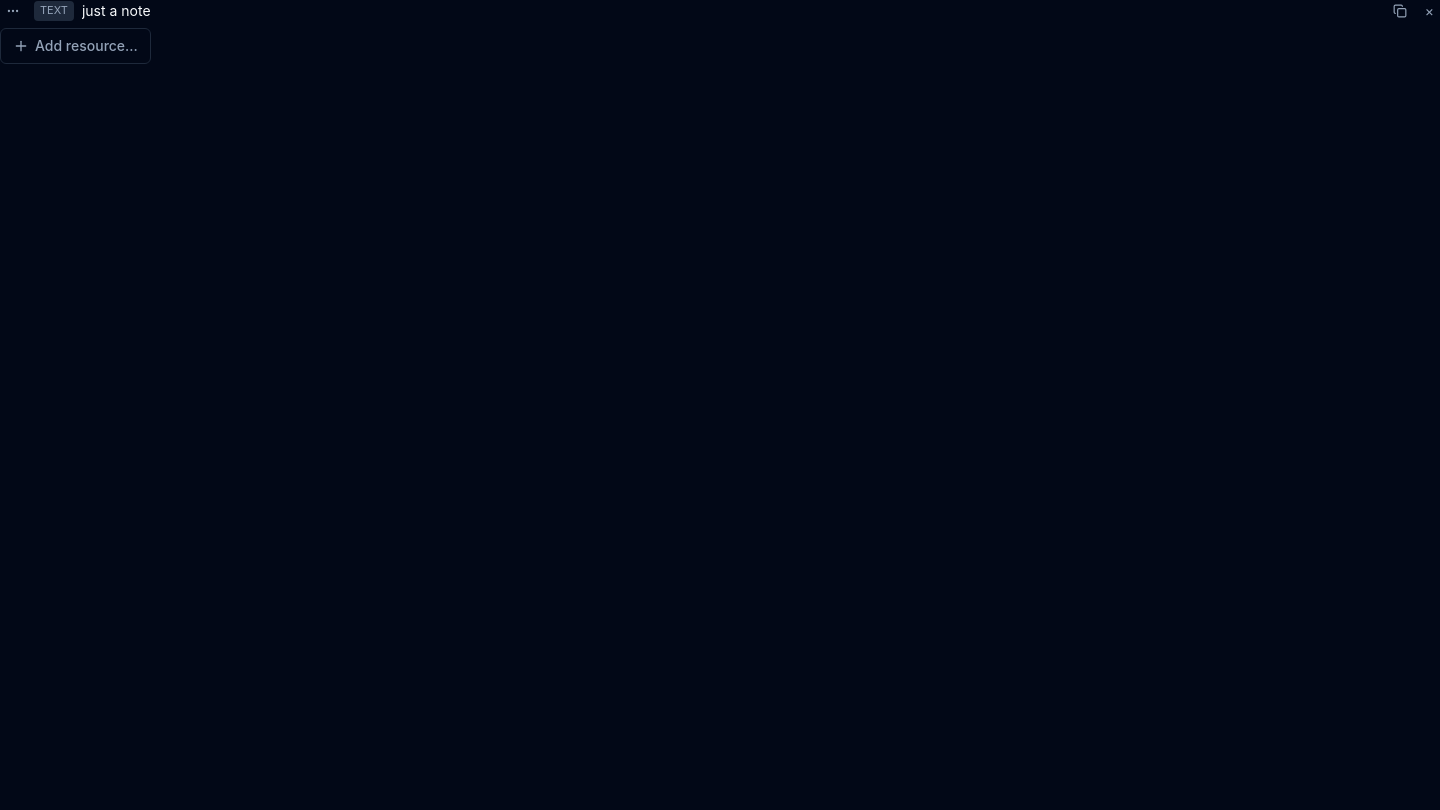
Scenario: ResourcesEditor http links (#715) › non-http values stay plain text; the name field only appears for URI
The width and height of the screenshot is (1440, 810).
Expected: the text "just a note" is shown, x1=82 y1=2 x2=151 y2=19
Click the button "Add resource…" at (75, 46), box x1=0 y1=28 x2=151 y2=64
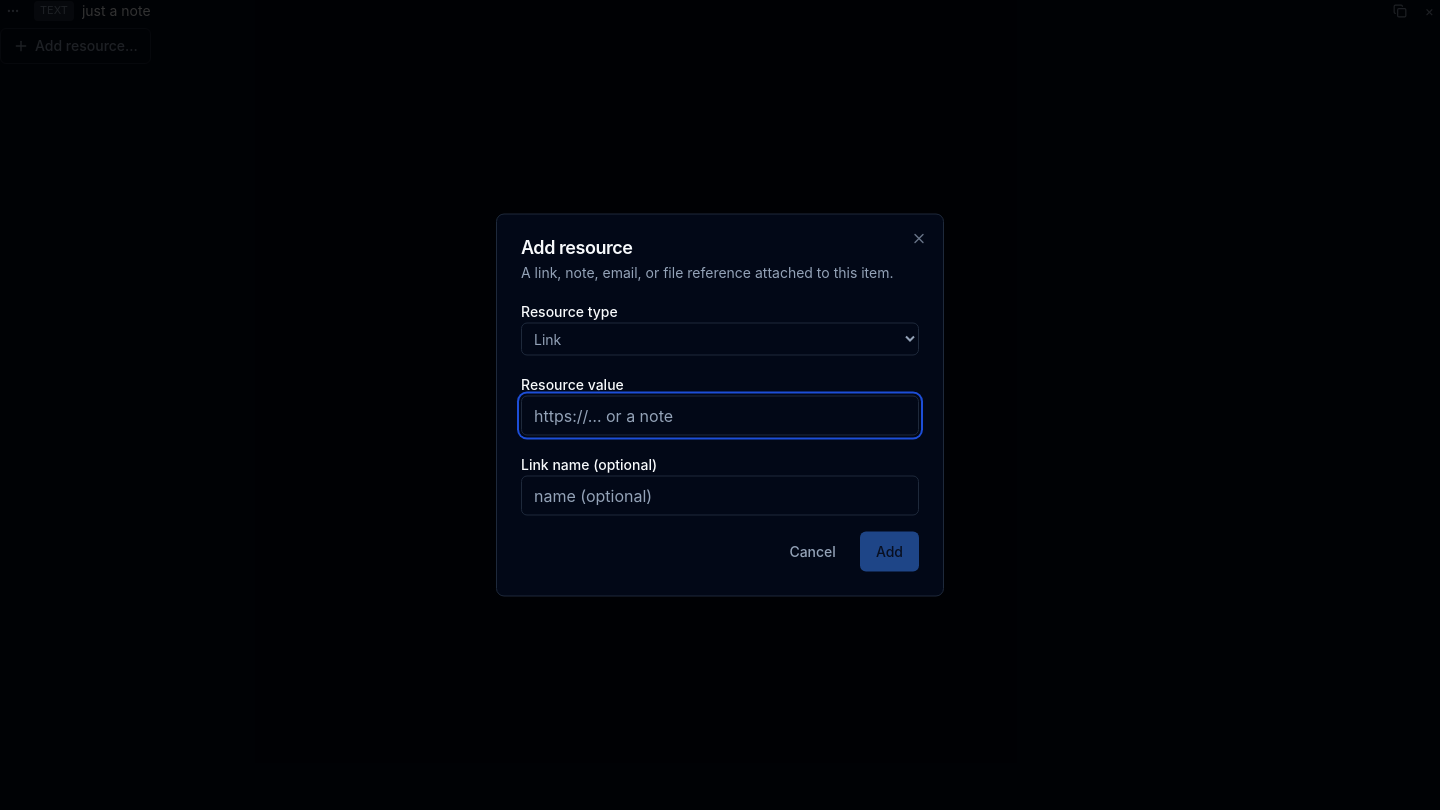
Select "Note" in the dropdown labelled "Resource type" at (720, 339), box x1=521 y1=322 x2=919 y2=356
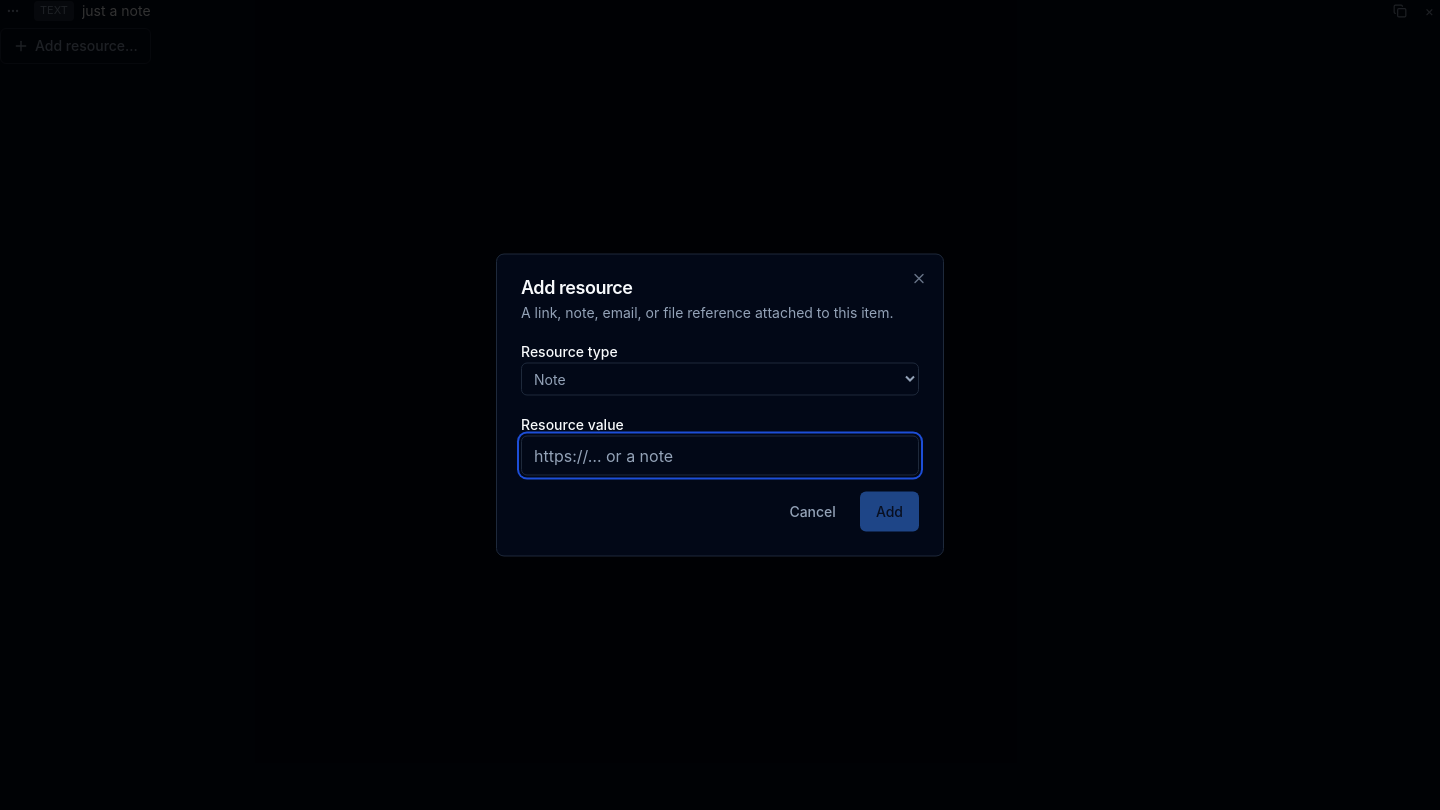
Expected: the label labelled "Link name (optional)" is gone
